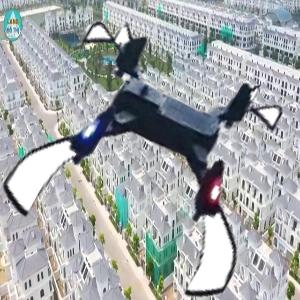drone: (29, 37, 282, 290)
